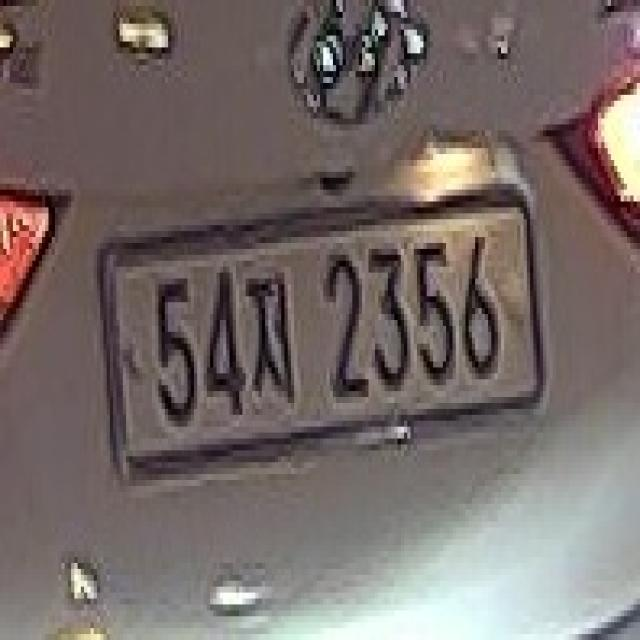2: (323, 225, 369, 409)
3: (362, 231, 411, 397)
4: (194, 249, 246, 432)
5: (139, 261, 204, 438), (407, 214, 459, 386)
6: (459, 220, 504, 380)
jeo: (243, 255, 294, 409)
license_plate: (94, 178, 546, 498)
